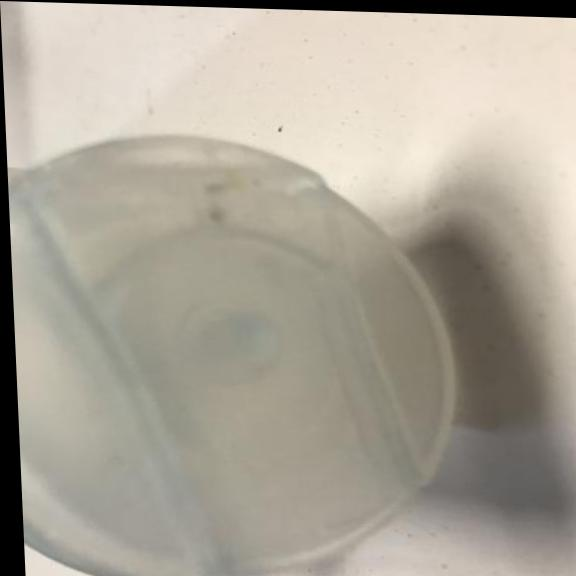Plastik: (5, 120, 469, 576)
